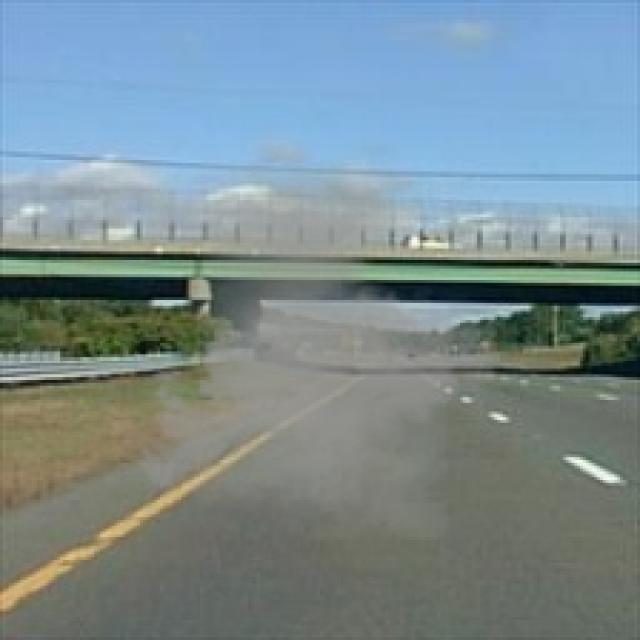smoke: (126, 160, 517, 540)
